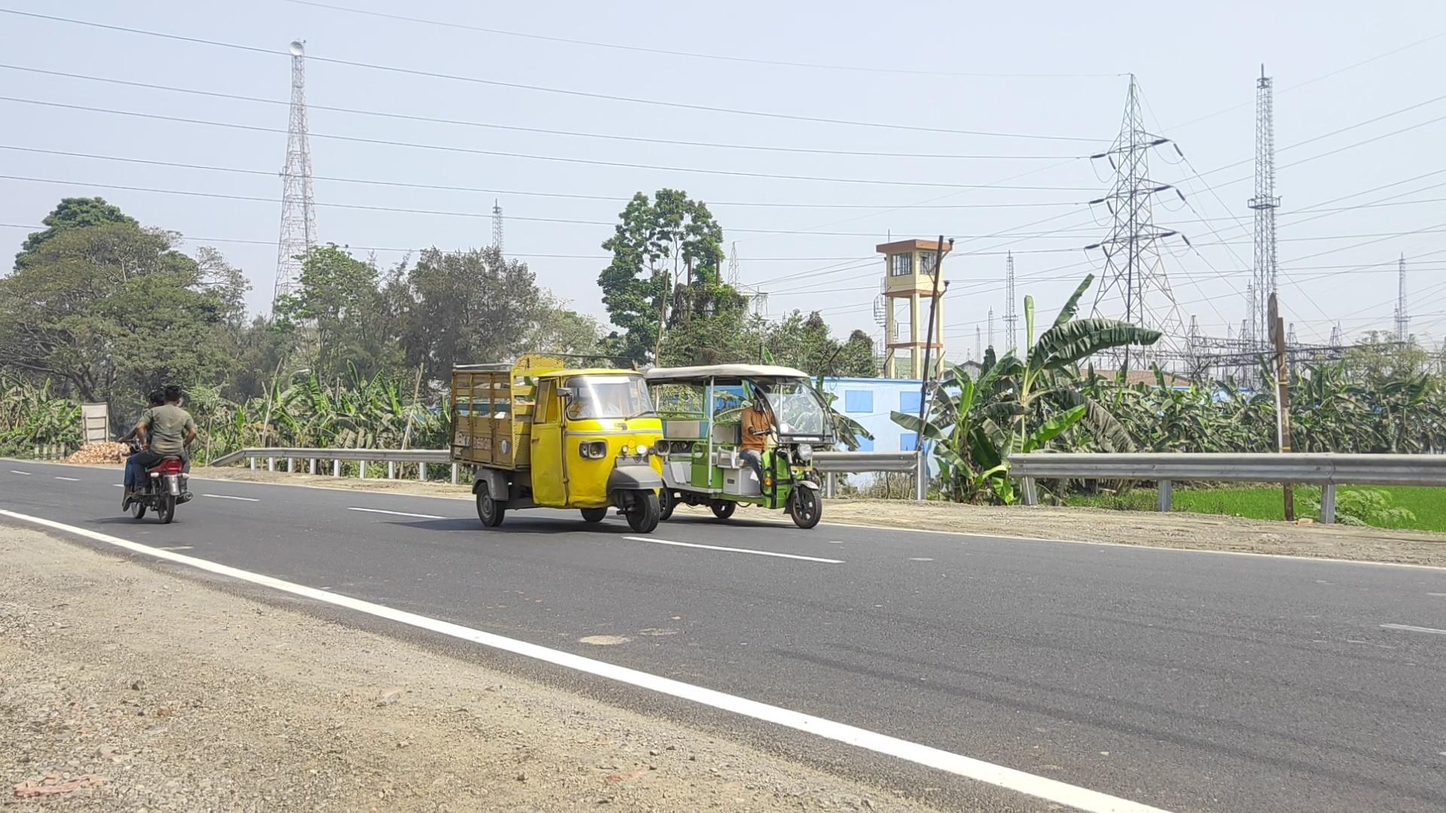Auto: (643, 364, 837, 530)
bike: (118, 385, 196, 523)
van: (449, 352, 670, 534)
